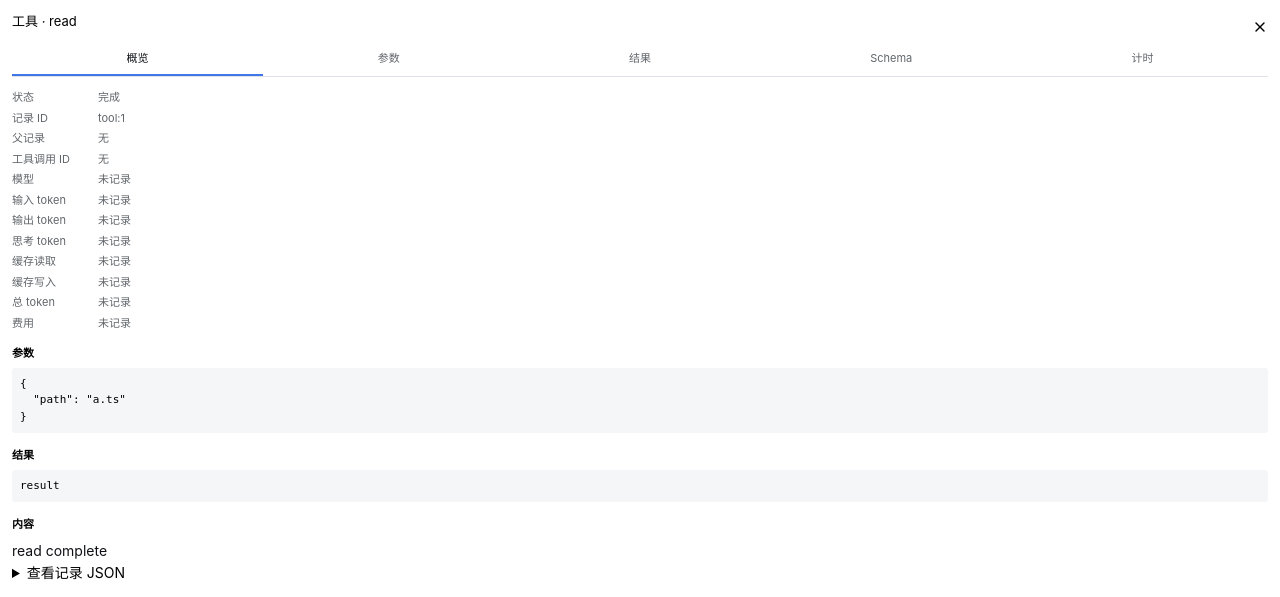
Test case: trajectory inspector › uses the actual matching OMP wire schema and separates timing and payload
Click the tab "Schema" at (891, 59), box [766,42,1017,76]
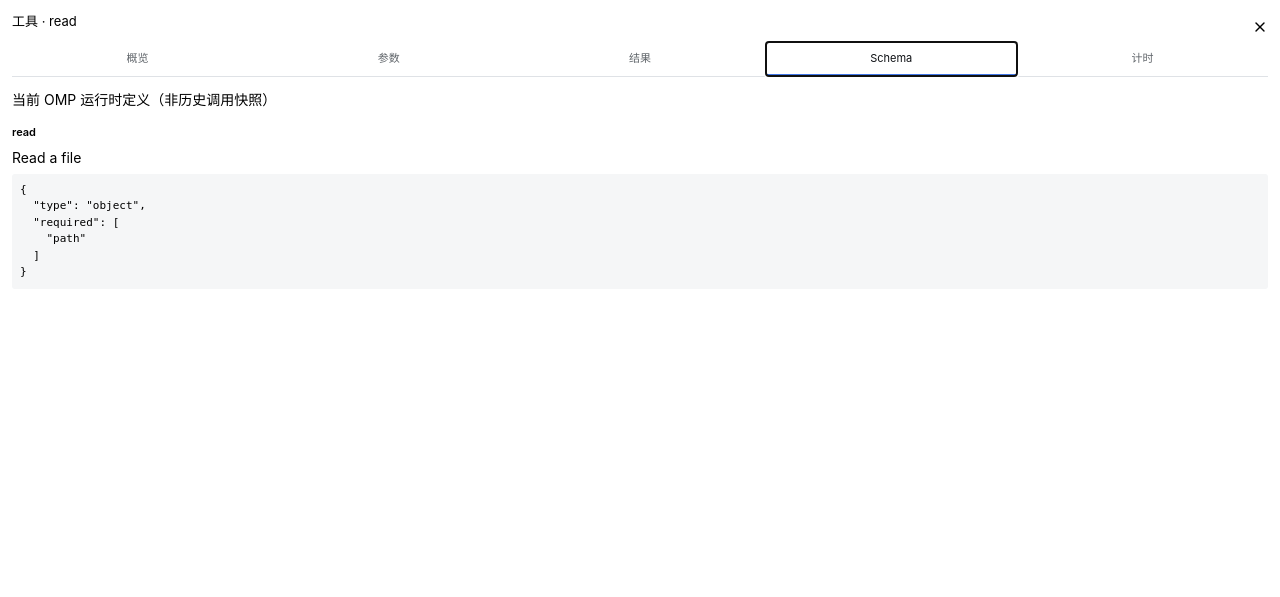
expect the panel shows "\"required\"": met, box [20,182,146,278]
Click the tab "计时" at (1142, 59), box [1017,42,1268,76]
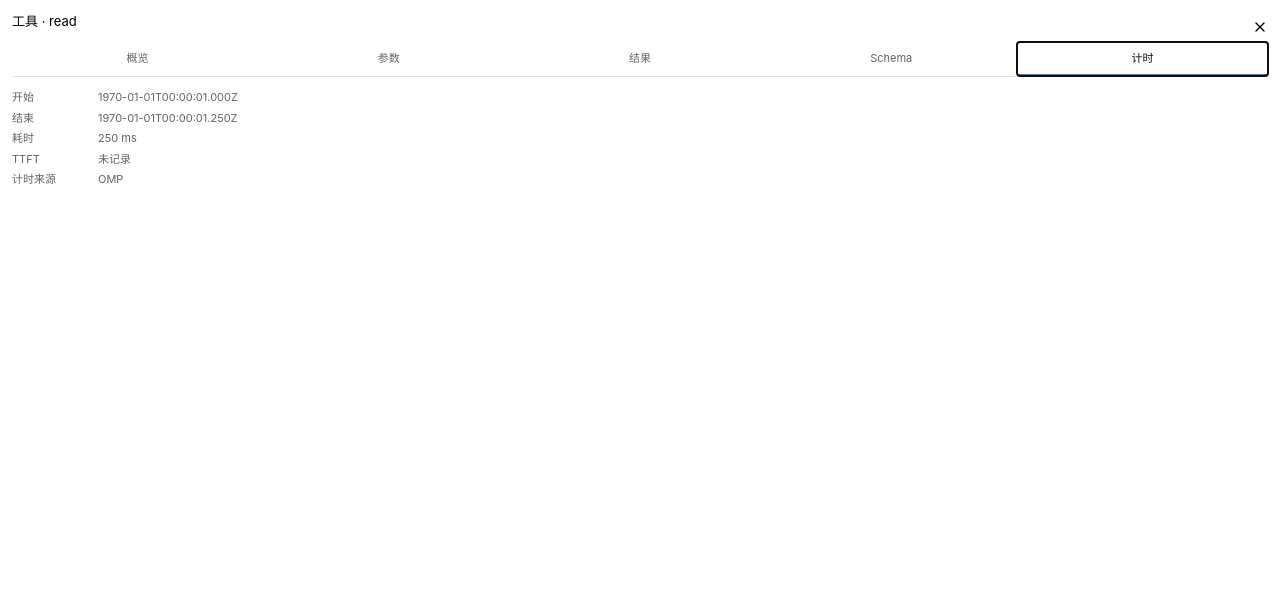
expect the text "a.ts" is not shown: met
expect the panel shows "250 ms": met, box [98,131,137,145]
Click the tab "参数" at (389, 59), box [263,42,514,76]
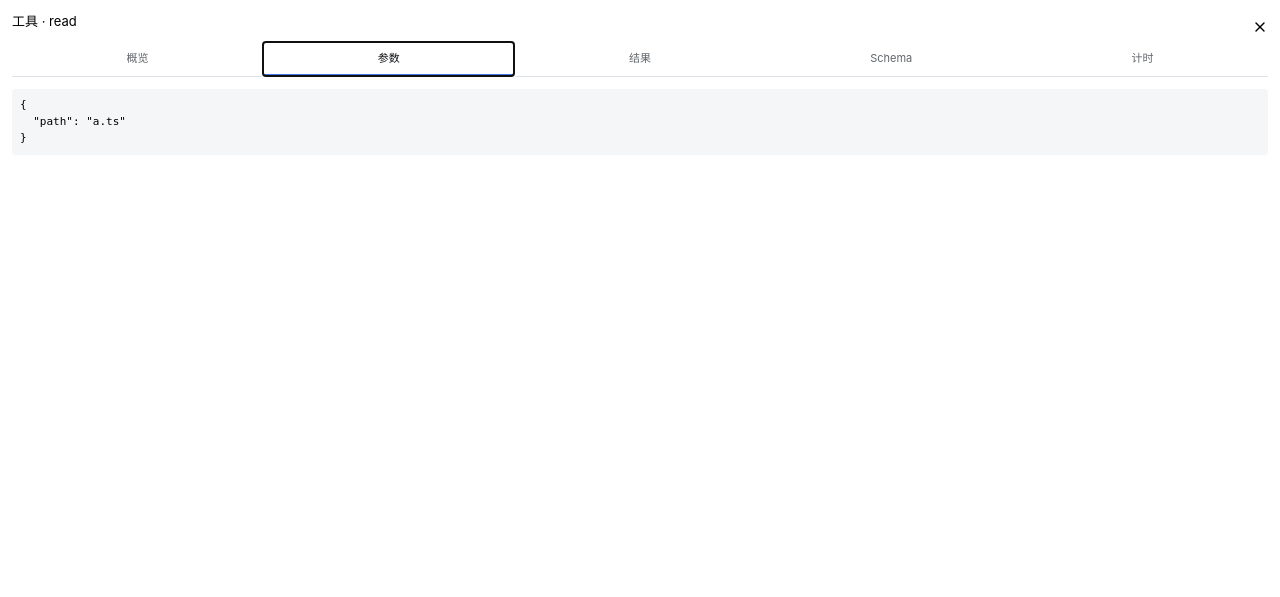
expect the panel shows "a.ts": met, box [20,98,126,144]
Click the tab "结果" at (640, 59), box [514,42,766,76]
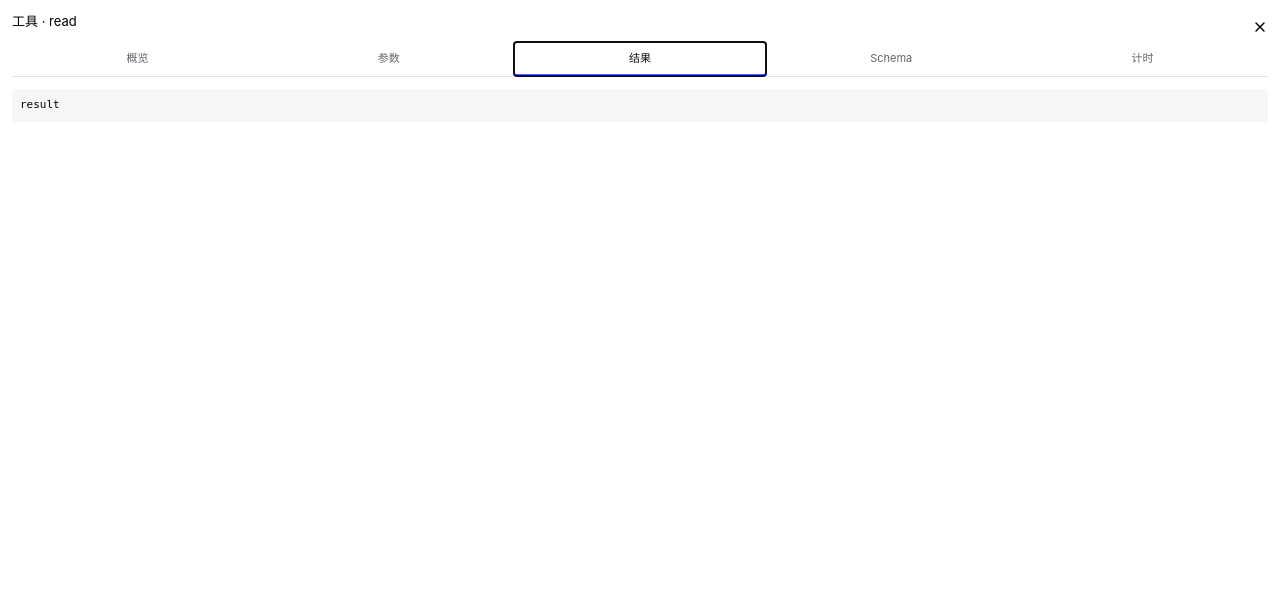
expect the panel reads "result": met, box [20,98,60,111]
